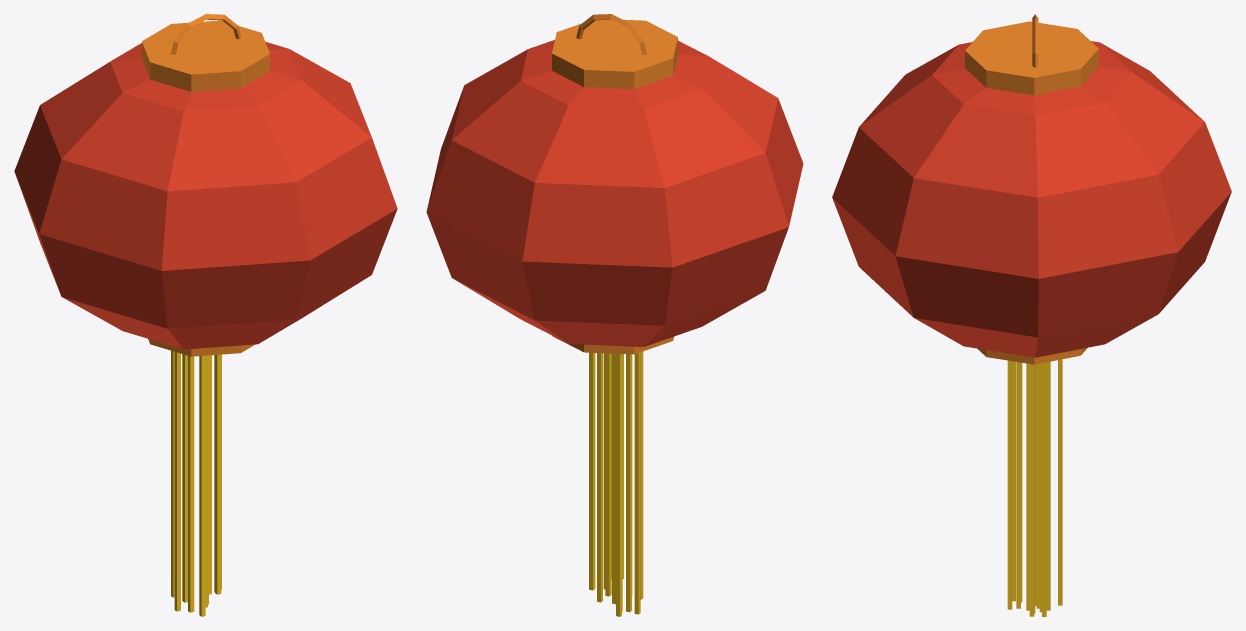
File: ChineseLantern_03.glb
The picture shows the model from 3 angles, left to right: view 1: azimuth 30°, elevation 25°; view 2: azimuth 150°, elevation 25°; view 3: azimuth 270°, elevation 25°; orthographic projection.
Parts seen in each view (by area): view 1: ChineseLantern_03; view 2: ChineseLantern_03; view 3: ChineseLantern_03.
Boxes of the visible parts, x1=… form: ChineseLantern_03: x1=14, y1=14, x2=397, y2=616; ChineseLantern_03: x1=426, y1=14, x2=803, y2=616; ChineseLantern_03: x1=832, y1=14, x2=1231, y2=616.
Bounding box in the file's own units: 0.5231 × 0.8701 × 0.5231.
Materials: 1 (1 with a texture image).
